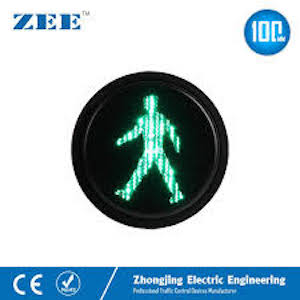green: (114, 92, 191, 207)
